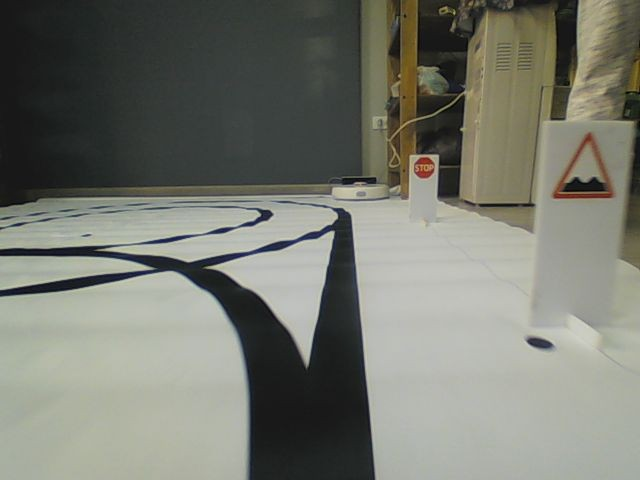Stop: (410, 156, 438, 180)
